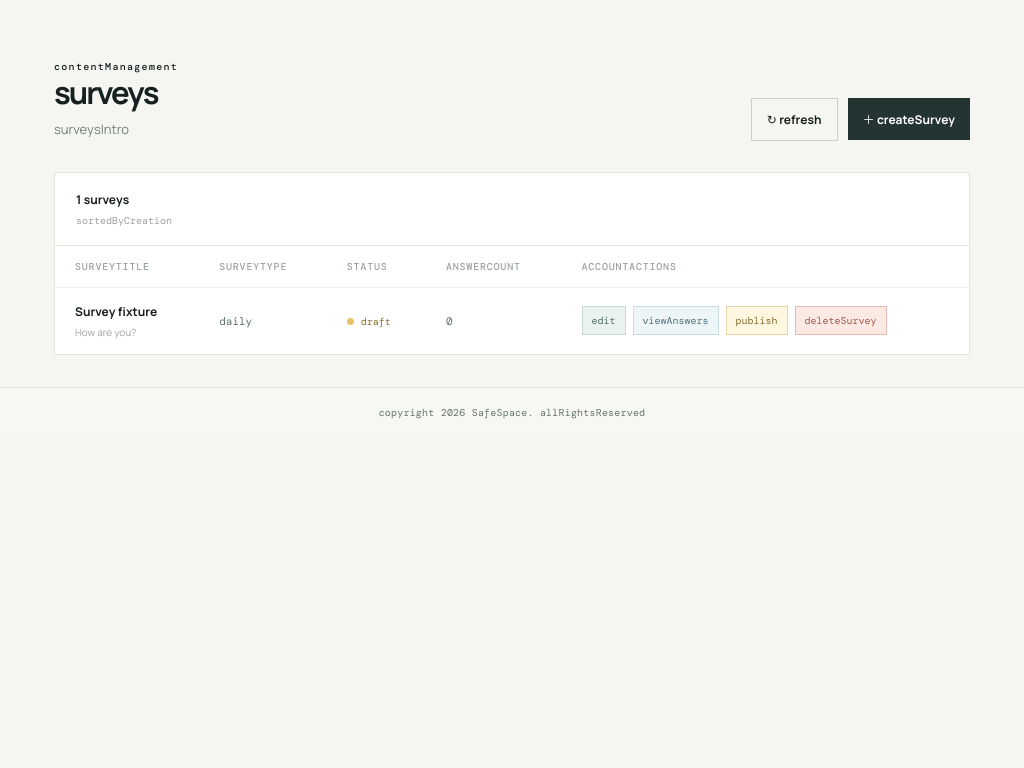
[integration] src/pages/SurveysPage.tsx › delete clears selected answers pane
This screenshot has width=1024, height=768.
Expected: the text "Survey fixture" is shown, [75, 302, 157, 320]
Click the button "viewAnswers".
click(676, 320)  # box [632, 306, 718, 335]
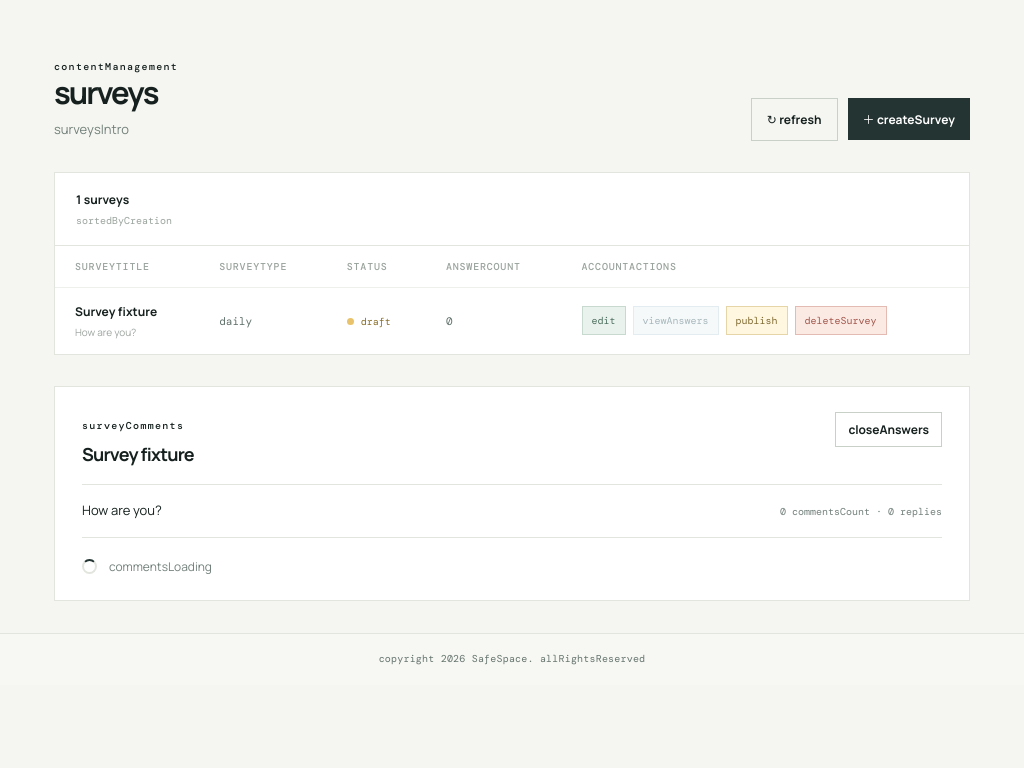
Expected: the button "closeAnswers" is shown, [835, 412, 942, 446]
Click the button "deleteSurvey".
click(840, 320)  # box [794, 306, 886, 335]
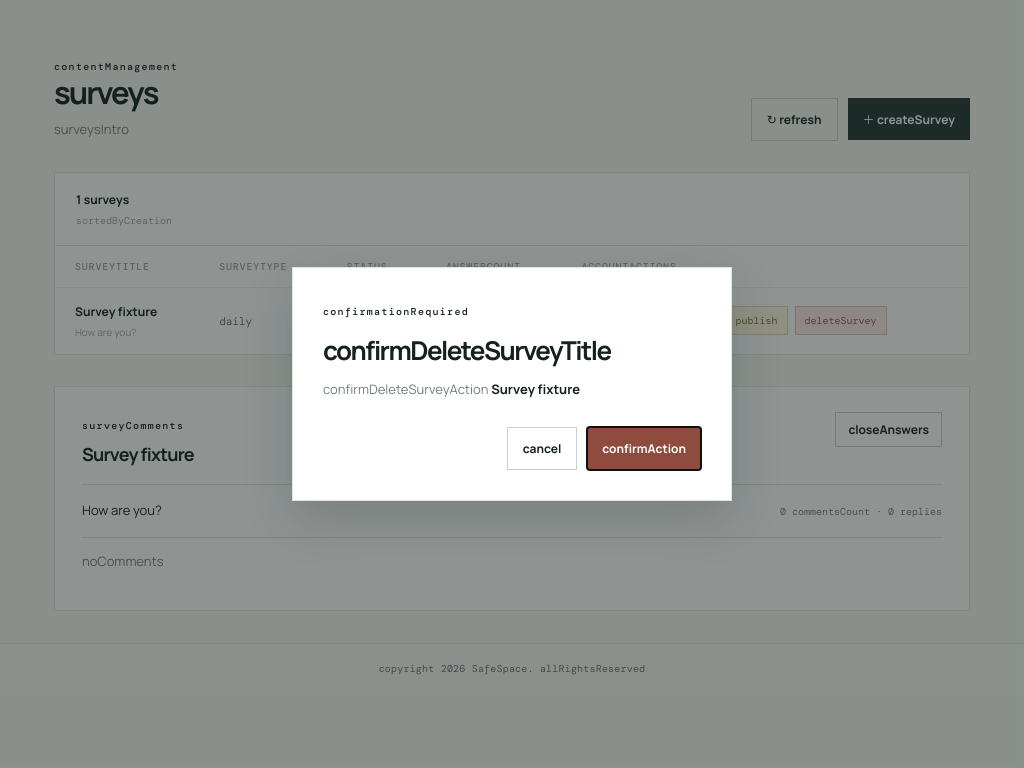
Click the button "confirmAction".
click(644, 448)  # box [587, 426, 701, 470]
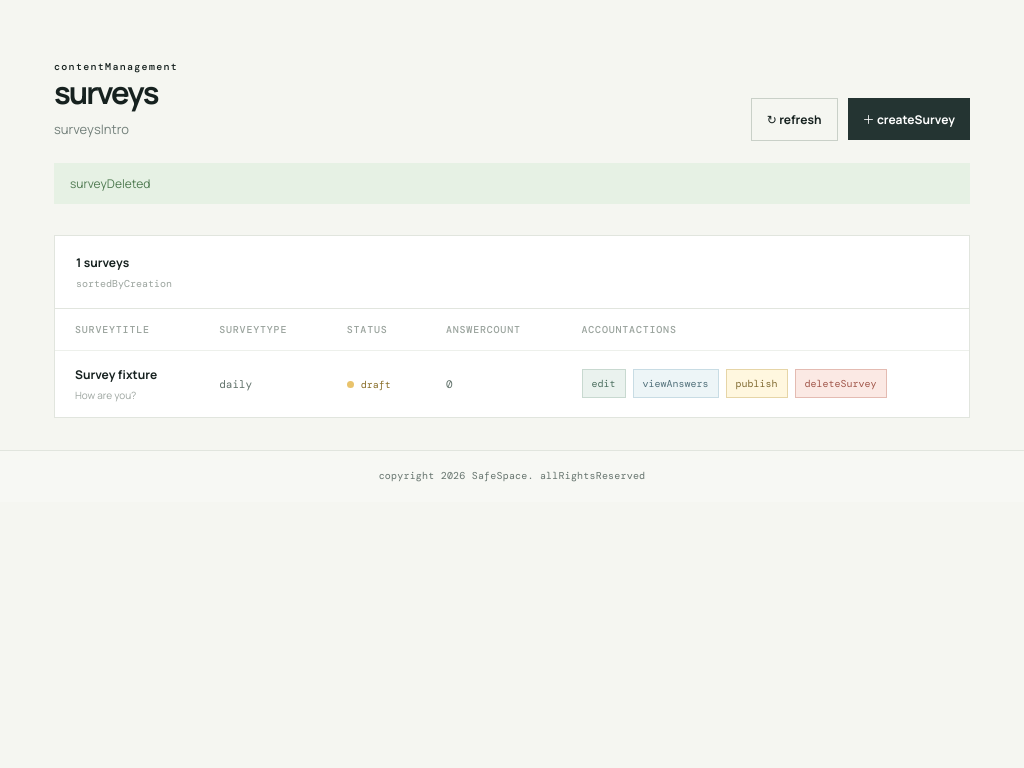
Expected: the button "closeAnswers" is gone
